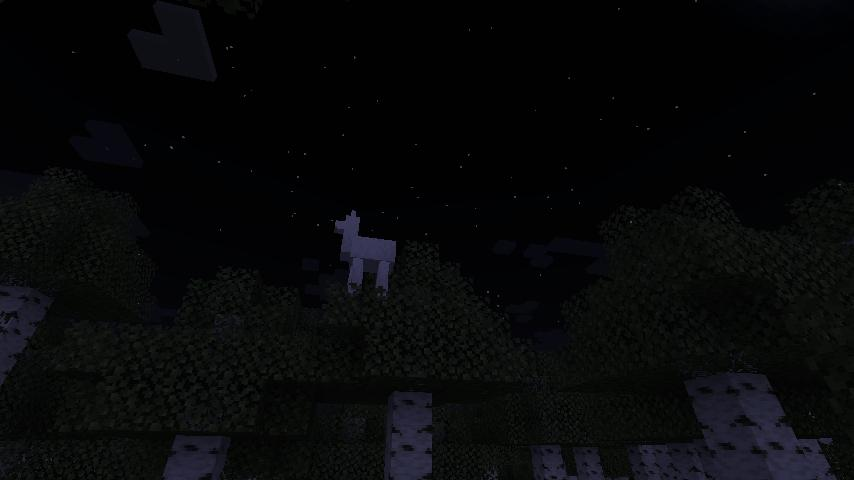llama: (332, 206, 400, 303)
